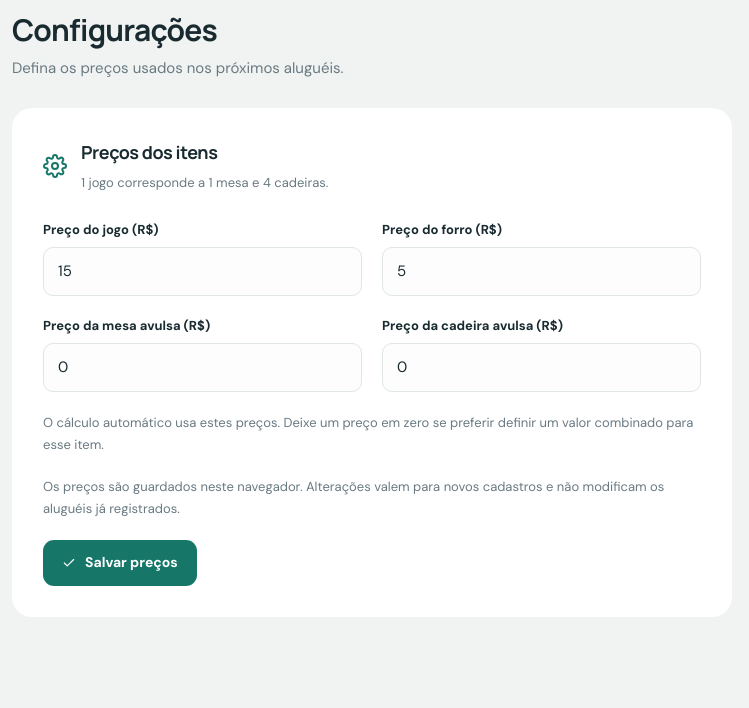
Test: Configurações de preços › rejeita preços negativos sem sobrescrever os preços salvos
Click the button "Salvar preços": (120, 563) [43, 540, 197, 586]
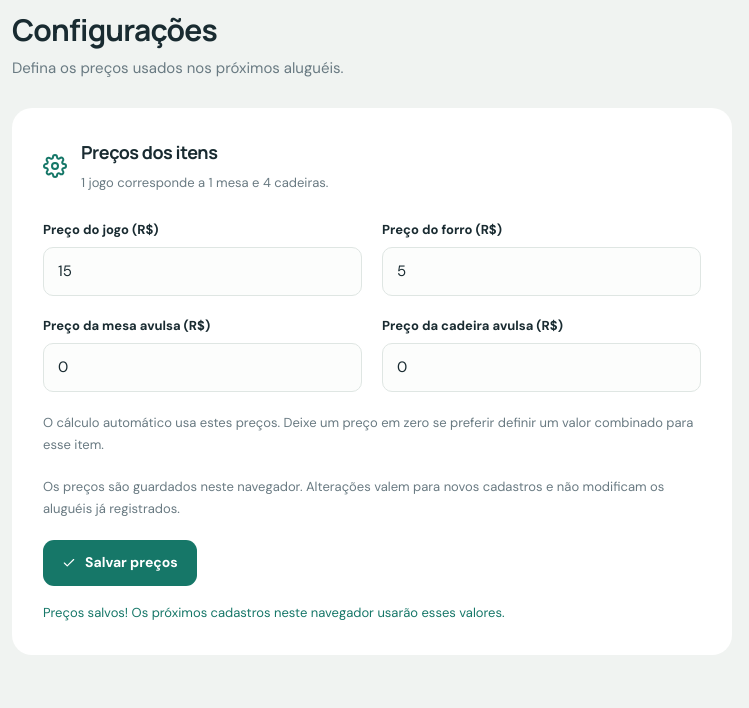
Replace the text in the field labelled "Preço do jogo (R$)" with "-1": (202, 271) [43, 247, 362, 296]
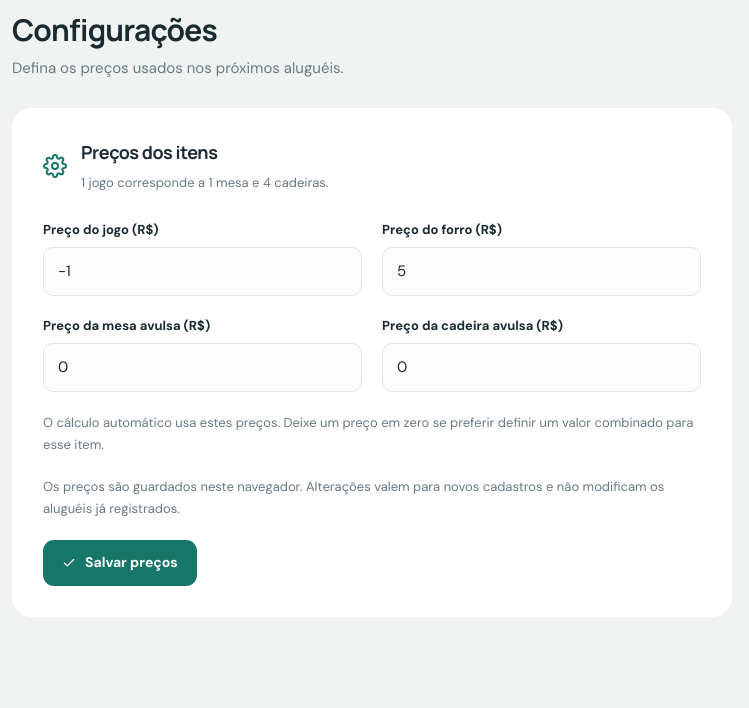
Click the button "Salvar preços": (120, 563) [43, 540, 197, 586]
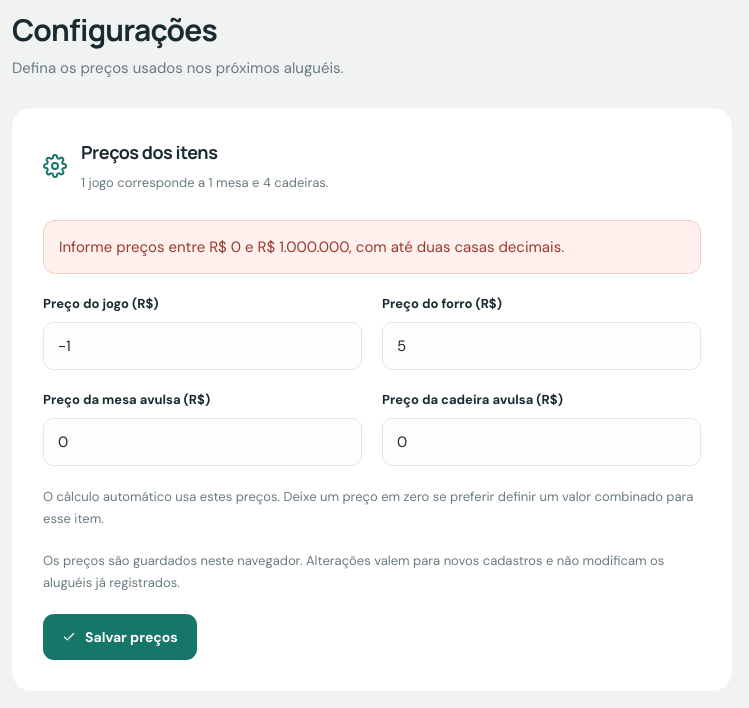
Check: the message "Informe preços entre R$ 0 e R$ 1.000.000, com até duas casas decimais." is shown, box [43, 220, 701, 274]
